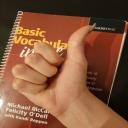ThumbsUp: (12, 20, 96, 116)
